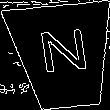N_S: (34, 29, 92, 84)
